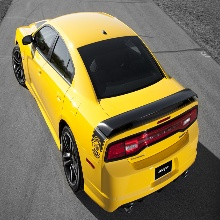no damage: (11, 10, 200, 214)
